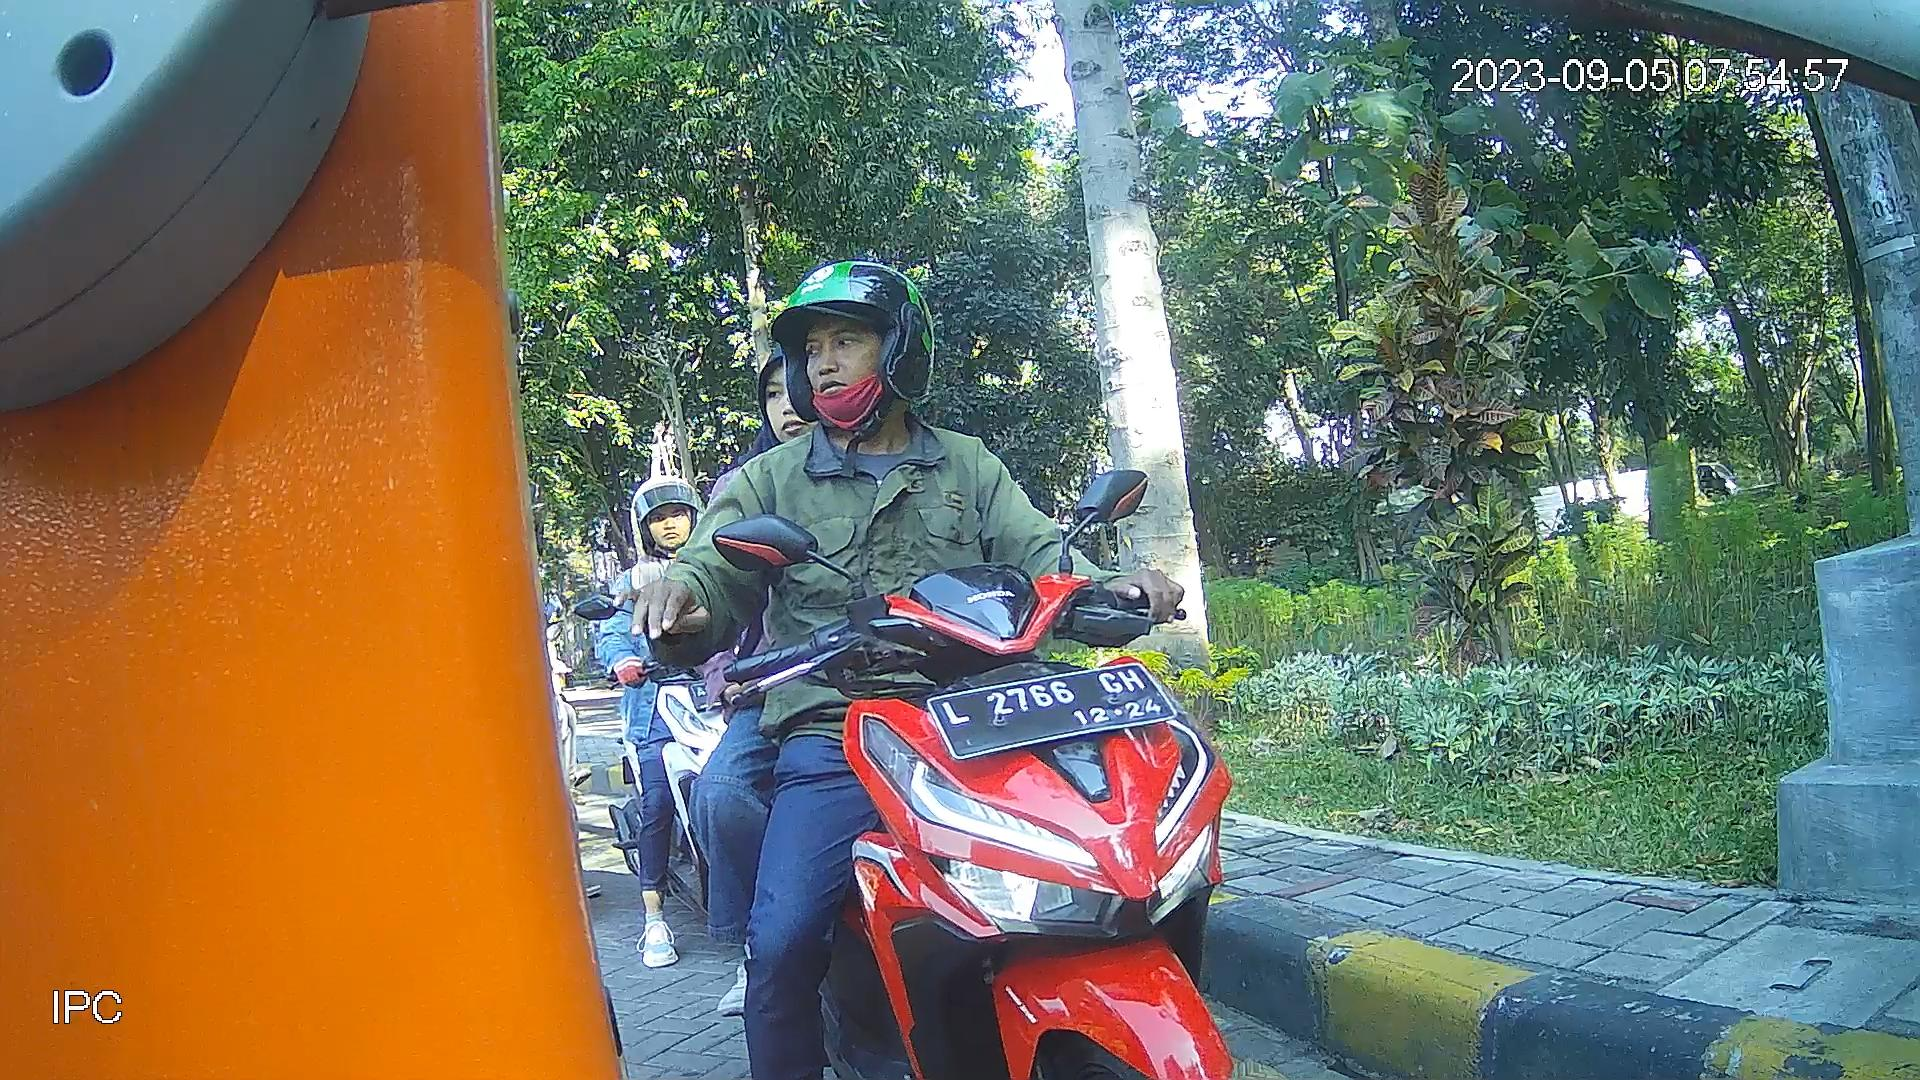plat: (922, 658, 1184, 764)
